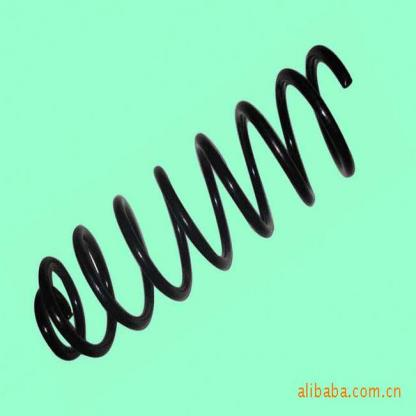FOD: (32, 43, 359, 363)
